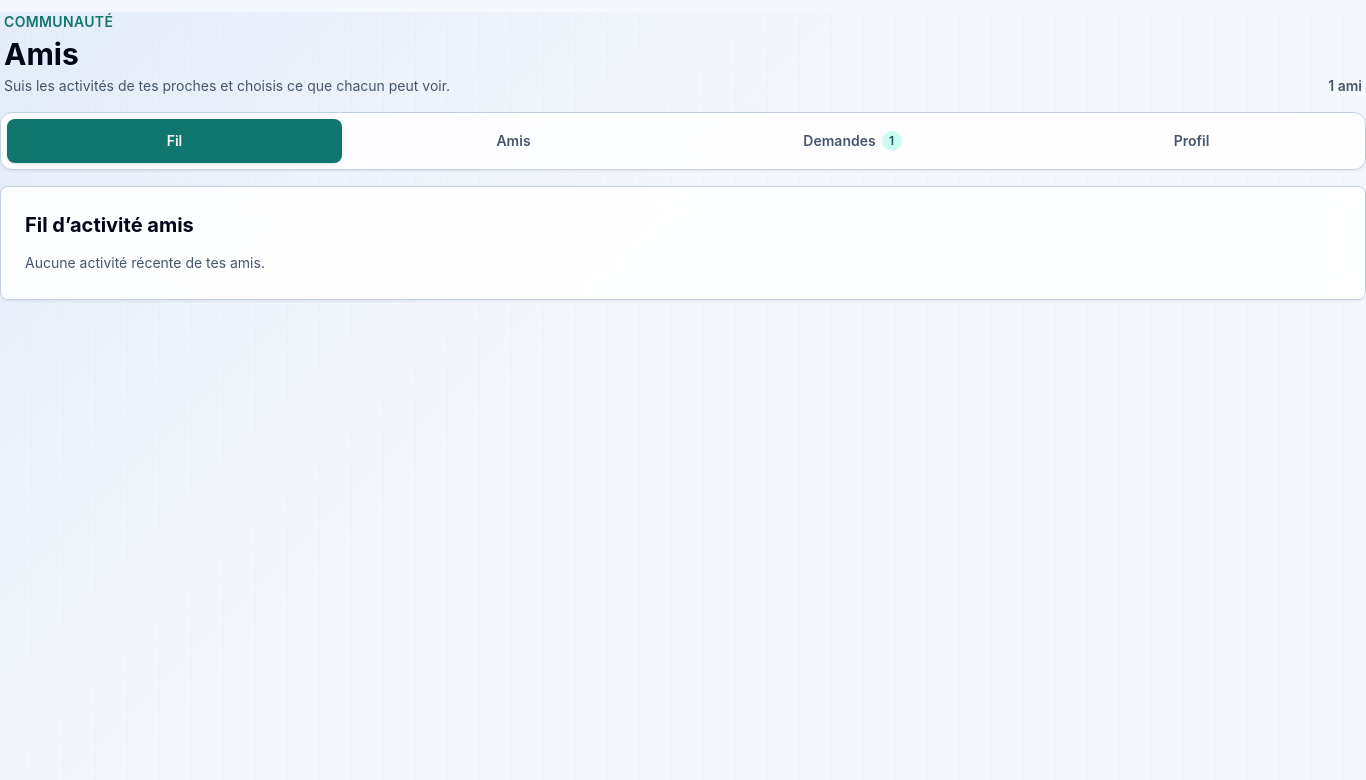
FriendsPrivacyPage › affiche quatre vraies rubriques sans texte de diagnostic dans le parcours courant
Expected: the heading "Amis" is shown, [4,36,79,72]
Expected: the heading "Fil d’activité amis" is shown, [25,213,194,237]
Click the button with aria-label "Mon profil social".
click(1192, 141)  # box [1024,119,1359,163]
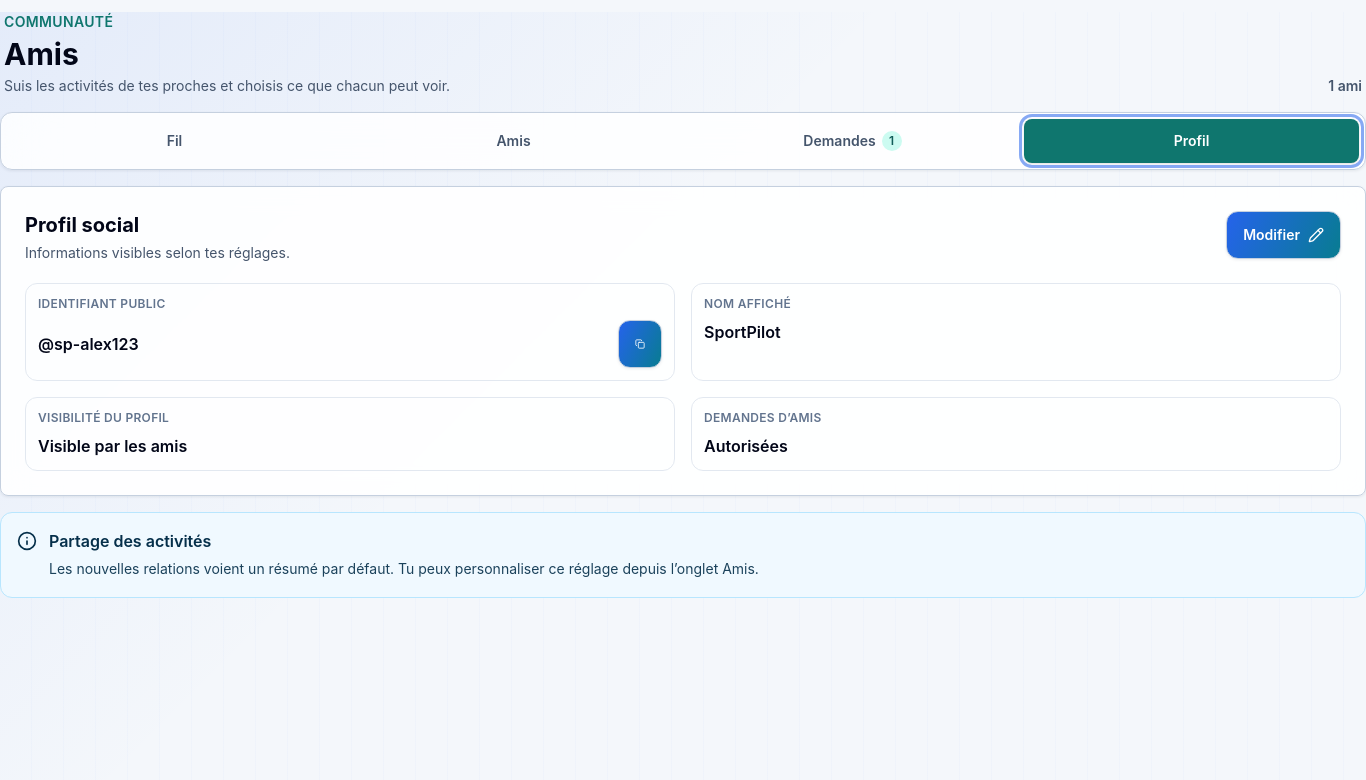
Now the heading "Profil social" is shown, box [25,213,139,237]
Now the text "@sp-alex123" is shown, box [38,334,139,354]
Now the text "Visible par les amis" is shown, box [38,436,187,456]
Click the button with aria-label "Mes amis".
click(514, 141)  # box [346,119,681,163]
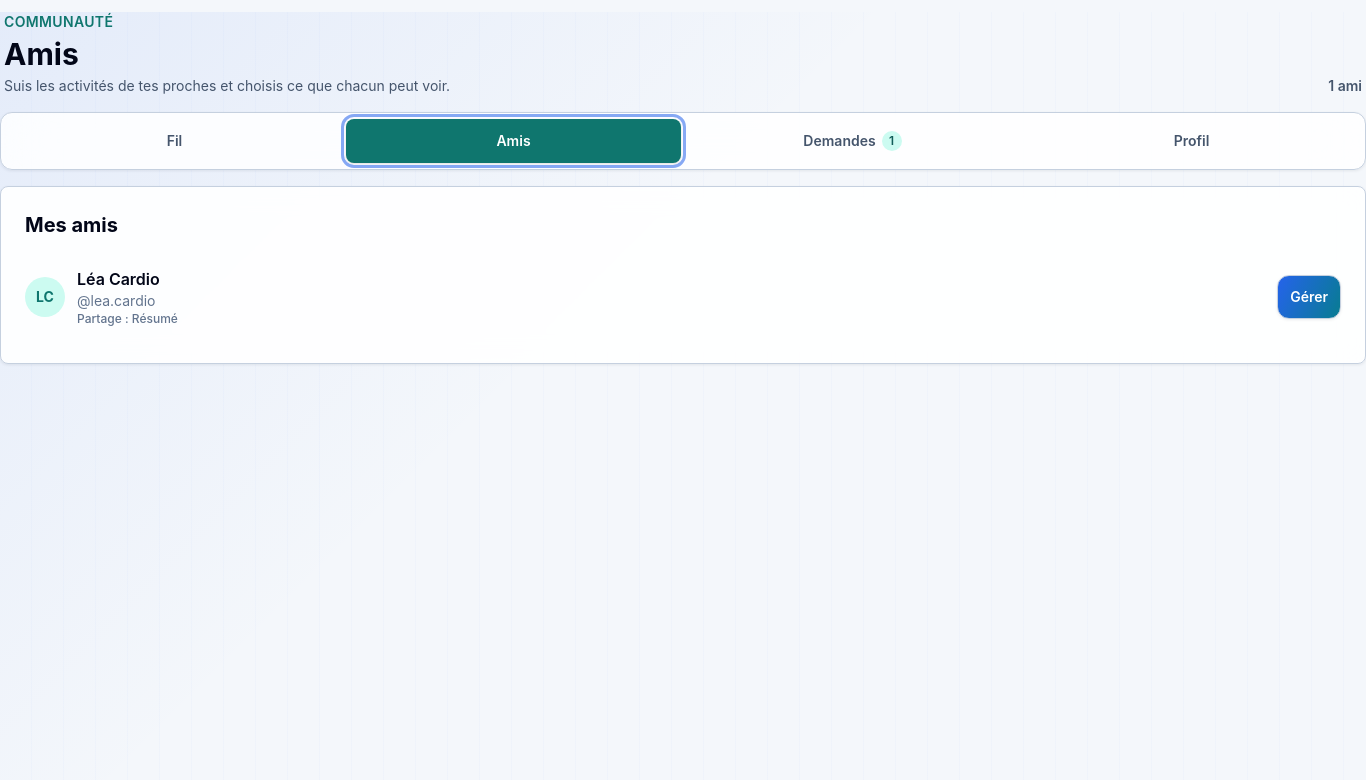
Now the text "Léa Cardio" is shown, box [77,269,160,289]
Now the text "Partage : Résumé" is shown, box [77,311,178,326]
Now the button "Gérer" is shown, box [1277,275,1341,319]
Click the button with aria-label "Demandes d’amis".
click(852, 141)  # box [685,119,1020,163]
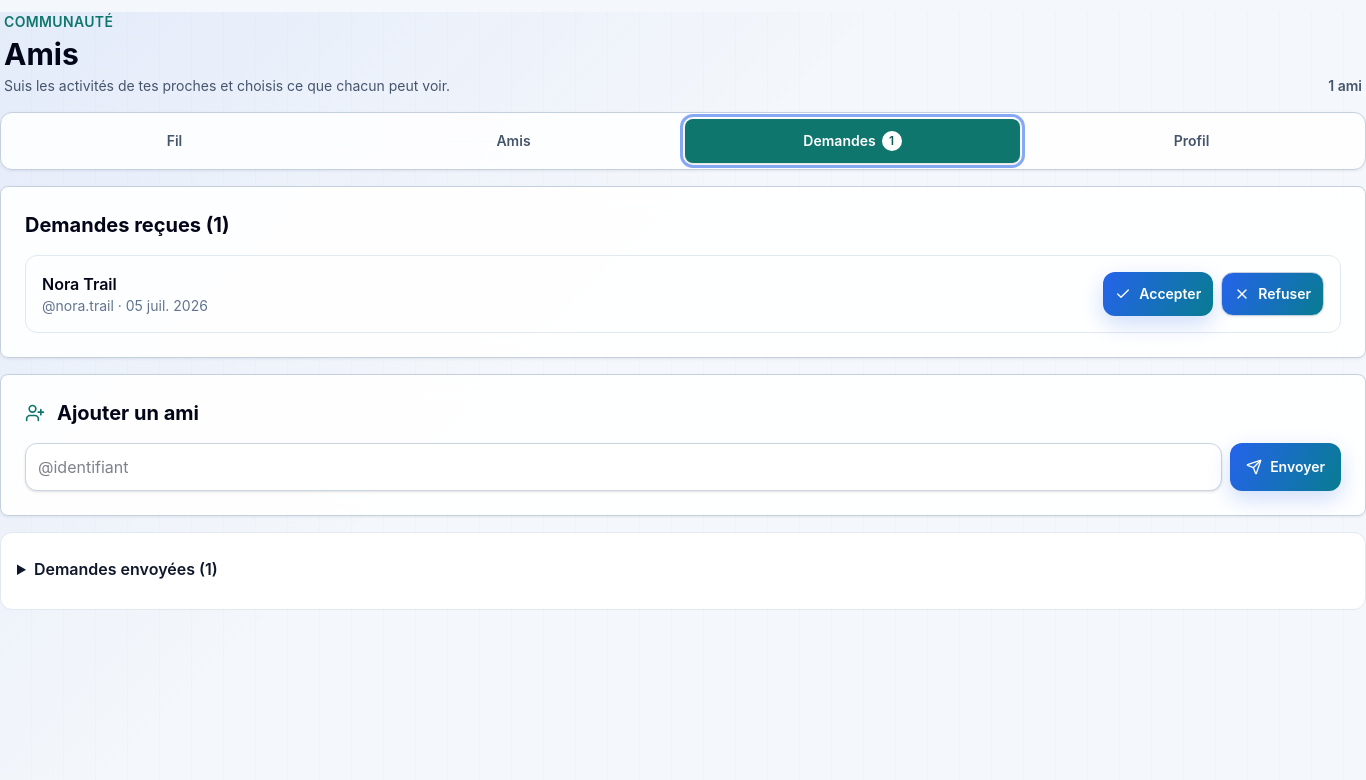
Now the text "Nora Trail" is shown, box [42,274,117,294]
